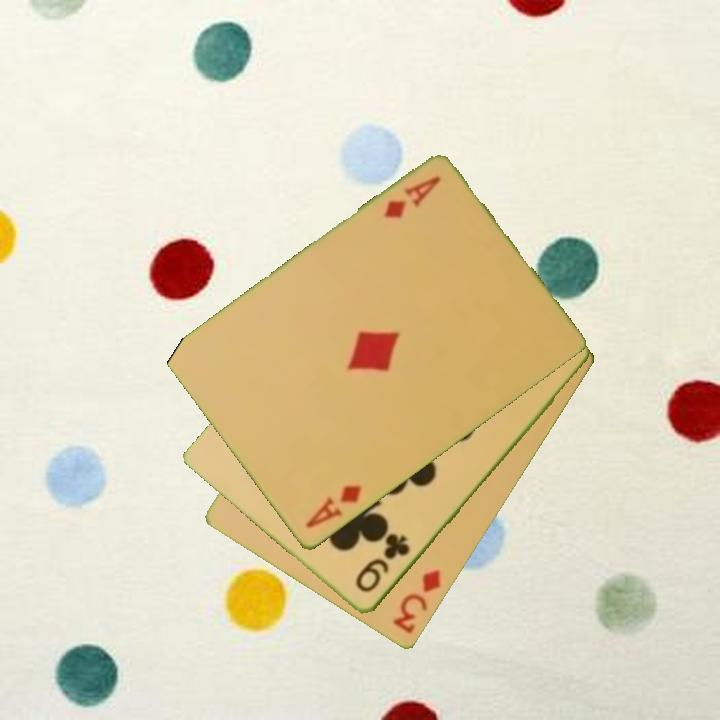3d: (389, 566, 444, 637)
9c: (352, 531, 413, 597)
Ad: (301, 481, 365, 532), (379, 172, 444, 222)
